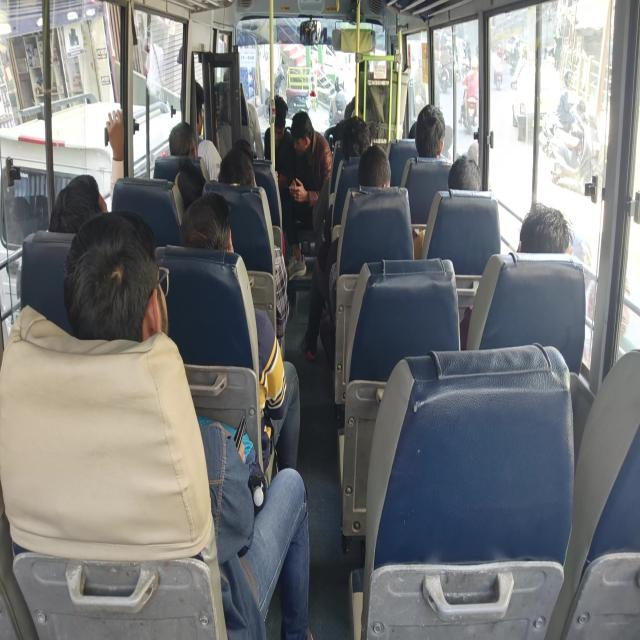person: (68, 210, 173, 351), (511, 200, 587, 297), (185, 192, 236, 310), (452, 150, 498, 207), (418, 101, 455, 164), (54, 165, 91, 221), (224, 148, 254, 207), (364, 152, 396, 198), (292, 114, 319, 160), (186, 82, 208, 134), (271, 96, 293, 143), (347, 111, 373, 150), (167, 117, 192, 155), (224, 69, 255, 97), (239, 134, 255, 165)
